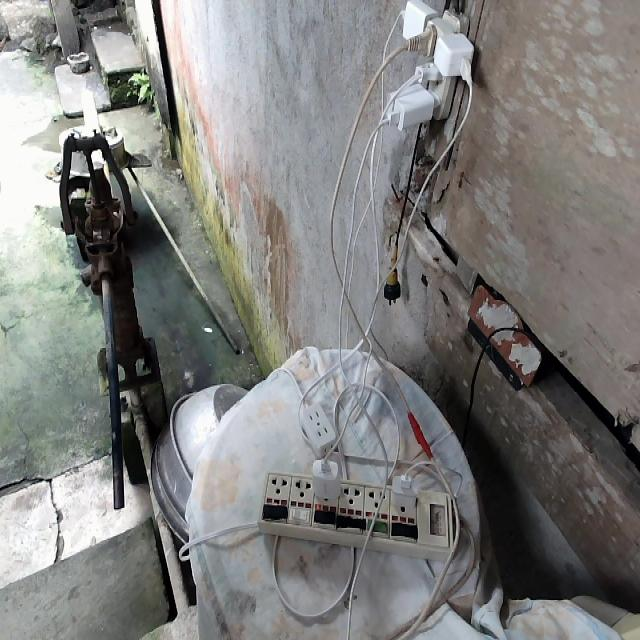-: (380, 0, 474, 135)
